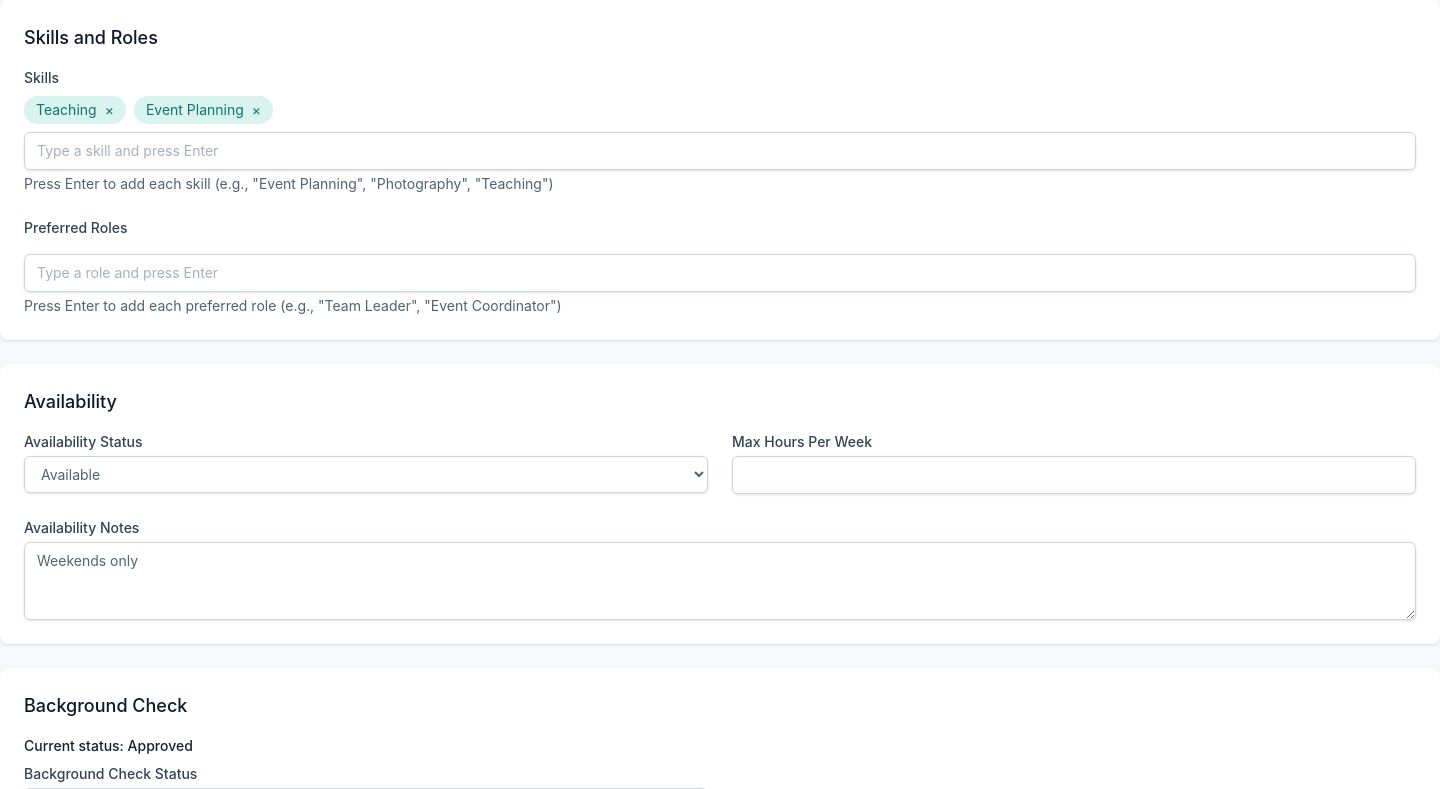
Scenario: VolunteerForm › Edit Mode › allows adding new skills to existing list
The width and height of the screenshot is (1440, 789).
Type "Photography" into the field labelled "Skills" at (720, 151), box x1=24 y1=132 x2=1416 y2=170
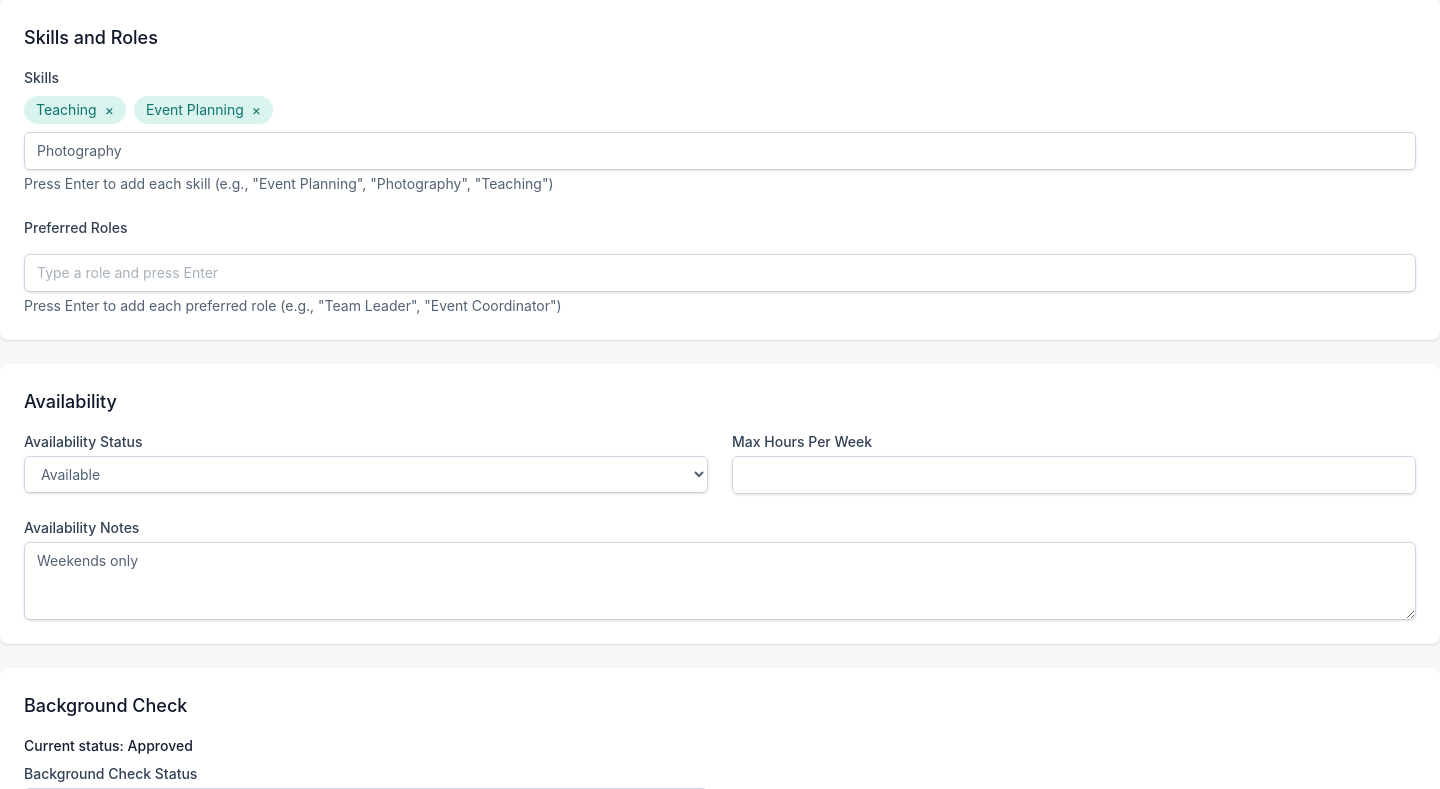
Press Enter in the field labelled "Skills", box x1=24 y1=132 x2=1416 y2=170
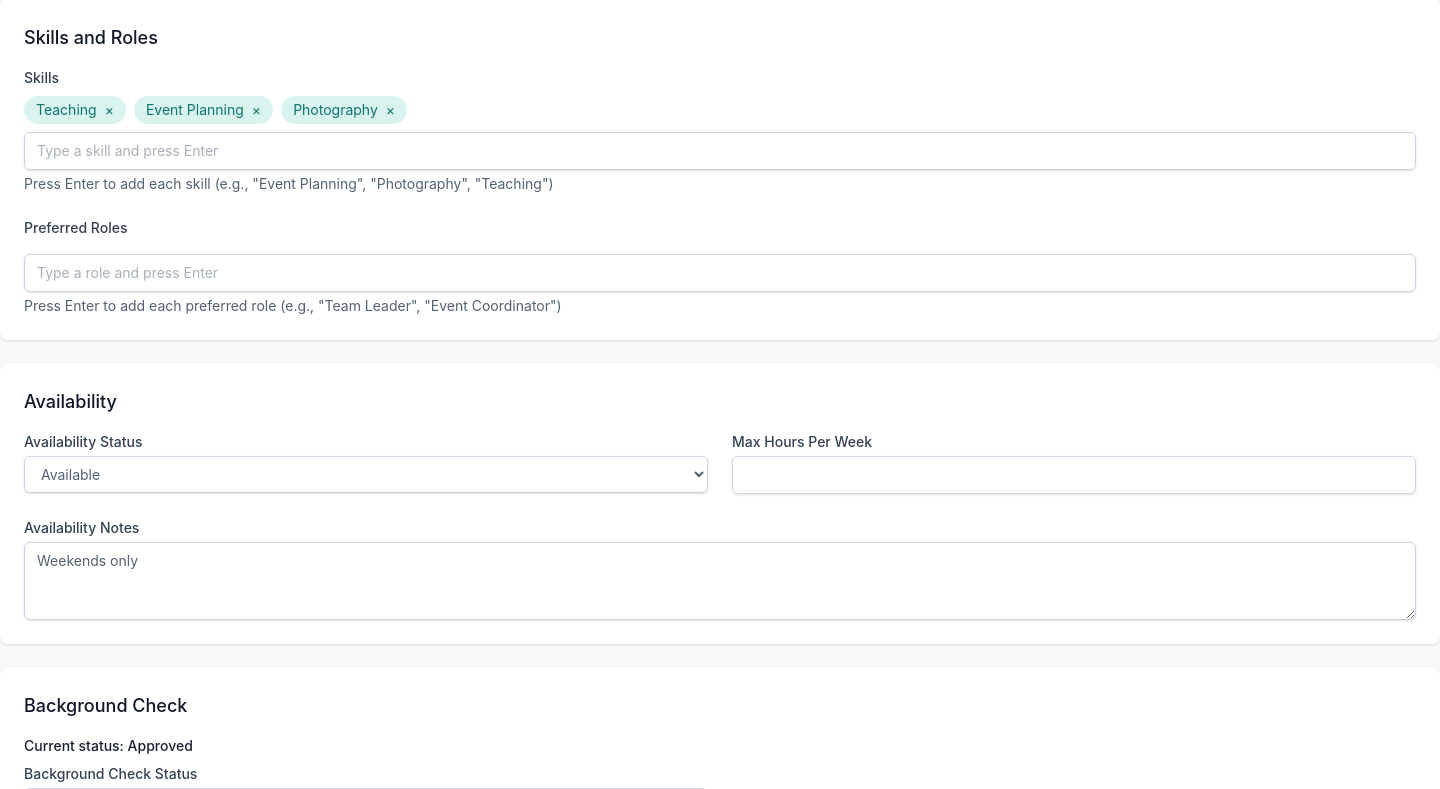
Expected: the text "Teaching" is shown, x1=36 y1=101 x2=97 y2=118
Expected: the text "Photography" is shown, x1=293 y1=101 x2=378 y2=118
